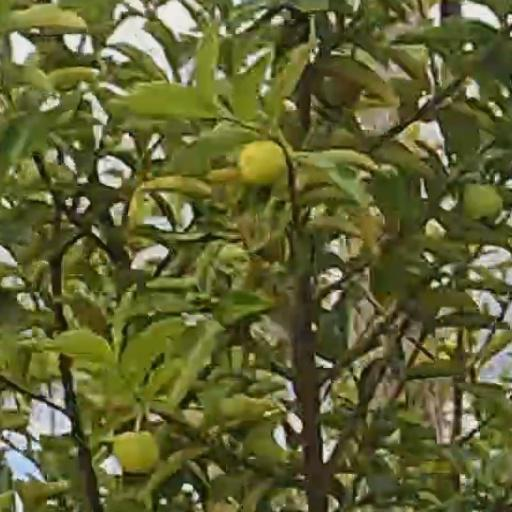acerola_verde: (243, 142, 286, 183), (117, 432, 157, 471), (464, 184, 503, 219)
acerola_vermelha: (314, 75, 360, 104)
